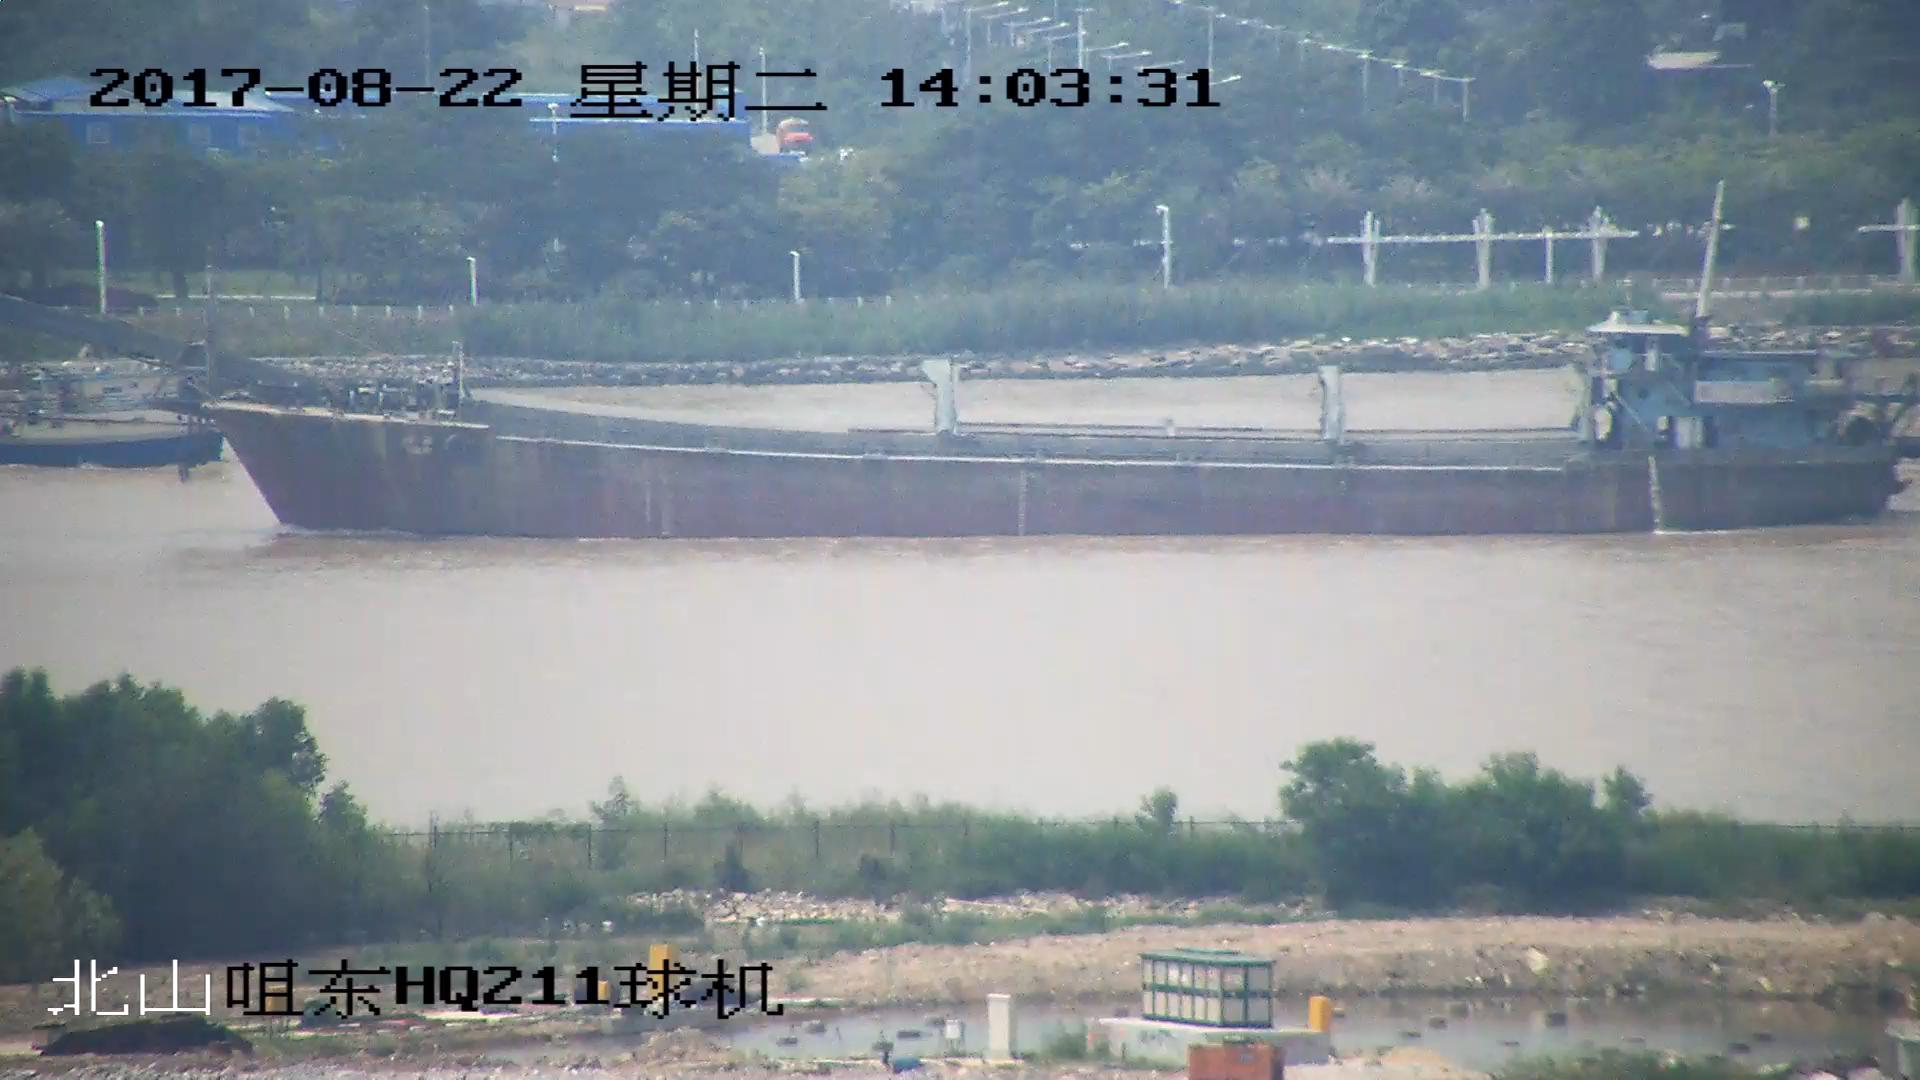Ship: (3, 297, 1920, 538), (3, 363, 233, 464)
